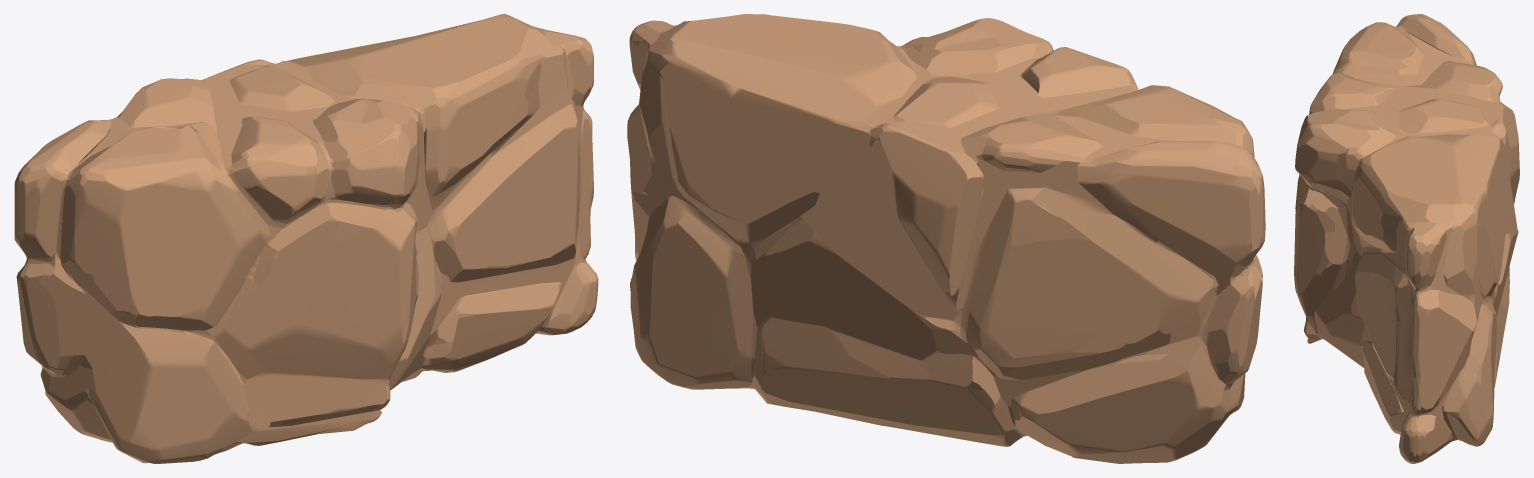
The picture shows the model from 3 angles, left to right: view 1: azimuth 30°, elevation 25°; view 2: azimuth 150°, elevation 25°; view 3: azimuth 270°, elevation 25°; orthographic projection. The views are drawn at different scales.
Parts seen in each view (by area): view 1: Mesh_18_LOD0; view 2: Mesh_18_LOD0; view 3: Mesh_18_LOD0.
Part boxes in pixels (x1=…): Mesh_18_LOD0: x1=14, y1=14, x2=598, y2=463; Mesh_18_LOD0: x1=627, y1=14, x2=1265, y2=463; Mesh_18_LOD0: x1=1294, y1=14, x2=1519, y2=463.
Size of what is drawn, in the model's own units: 3214 by 1672 by 1348.
